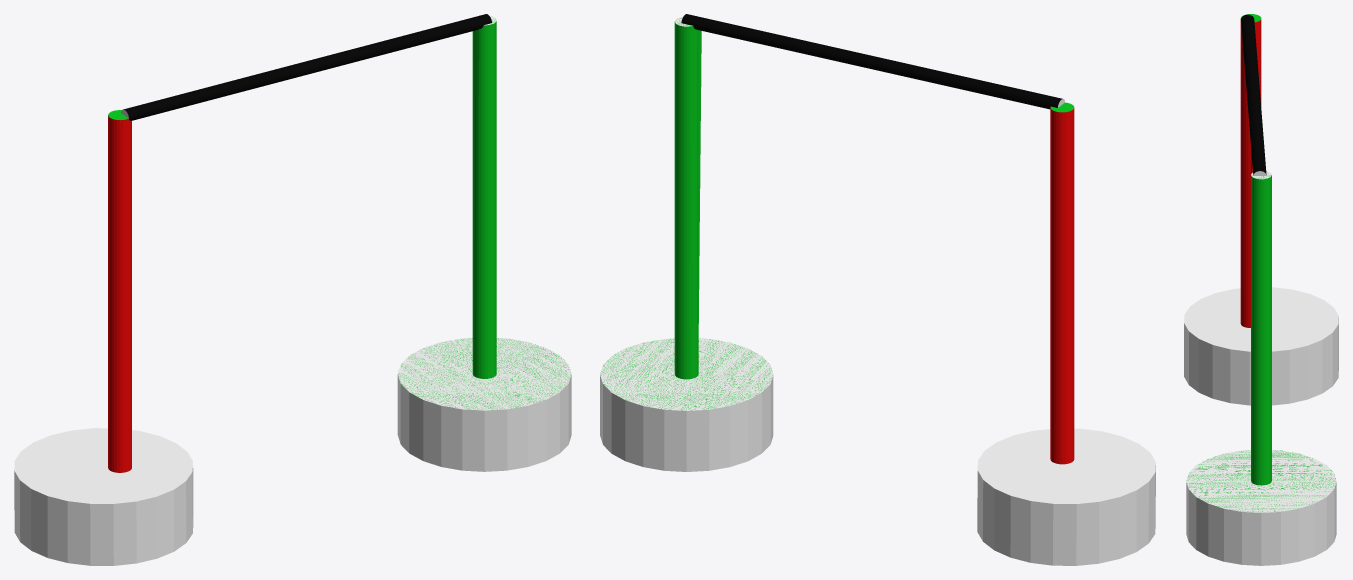
The model's file is gate.dae.
3 renders of one model, left to right at view 1: azimuth 30°, elevation 25°; view 2: azimuth 150°, elevation 25°; view 3: azimuth 270°, elevation 25°, orthographic. The views are drawn at different scales.
Parts seen in each view (by area): view 1: SketchUp (×7); view 2: SketchUp (×7); view 3: SketchUp (×6).
Part boxes in pixels (bbox=[...]): SketchUp (×7): bbox=[14, 14, 571, 565]; SketchUp (×7): bbox=[600, 14, 1155, 565]; SketchUp (×6): bbox=[1184, 14, 1338, 565].
Bounding box in the file's own units: 80.92 × 23.48 × 60.99.
